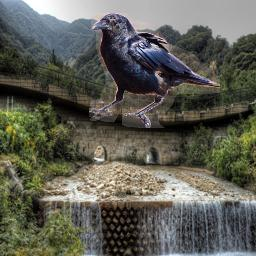Crow: (89, 13, 220, 128)
